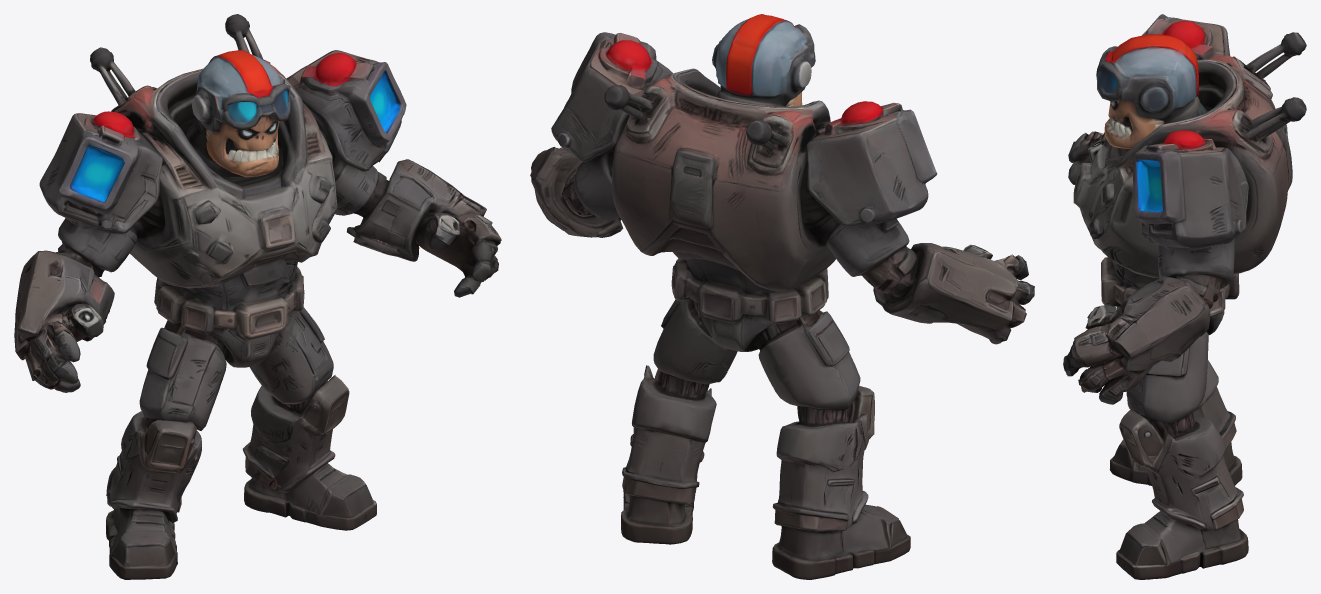
File: captain_kevlar.glb
3 views of the same model, side by side, from view 1: azimuth 30°, elevation 25°; view 2: azimuth 150°, elevation 25°; view 3: azimuth 270°, elevation 25° (orthographic). The views are drawn at different scales.
Visible parts, largest first — view 1: tripo_node_112dbdf9-4251-4994-ad19-73ac2f0c155c; view 2: tripo_node_112dbdf9-4251-4994-ad19-73ac2f0c155c; view 3: tripo_node_112dbdf9-4251-4994-ad19-73ac2f0c155c.
Part boxes in pixels (x1=…): tripo_node_112dbdf9-4251-4994-ad19-73ac2f0c155c: x1=14, y1=14, x2=501, y2=579; tripo_node_112dbdf9-4251-4994-ad19-73ac2f0c155c: x1=530, y1=14, x2=1034, y2=579; tripo_node_112dbdf9-4251-4994-ad19-73ac2f0c155c: x1=1063, y1=14, x2=1306, y2=579.
Bounding box in the file's own units: 0.9808 × 0.9782 × 0.4493.
1 material, 1 textured.
